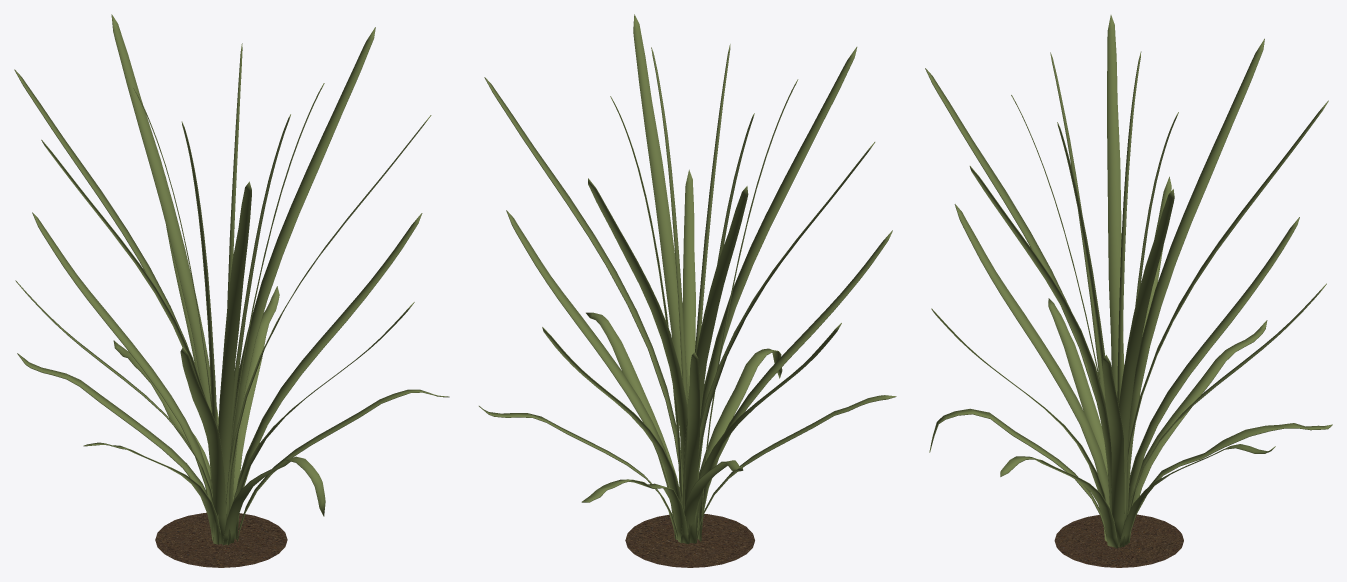
Rendered from HousePlant7.fbx.
3 views of the same model, side by side, from view 1: azimuth 30°, elevation 25°; view 2: azimuth 150°, elevation 25°; view 3: azimuth 270°, elevation 25° (orthographic). The views are drawn at different scales.
Parts seen in each view (by area): view 1: Cube.005; view 2: Cube.005; view 3: Cube.005.
Part boxes in pixels (left/top/right/bottom): Cube.005: left=14, top=14, right=449, bottom=567; Cube.005: left=479, top=14, right=896, bottom=567; Cube.005: left=925, top=15, right=1332, bottom=567.
Bounding box in the file's own units: 329 × 388 × 314.
